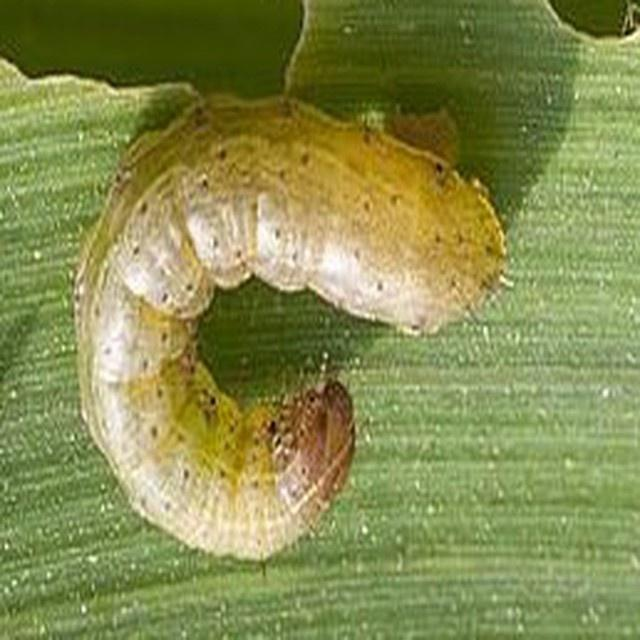gusano_cogollero: (68, 90, 504, 562)
